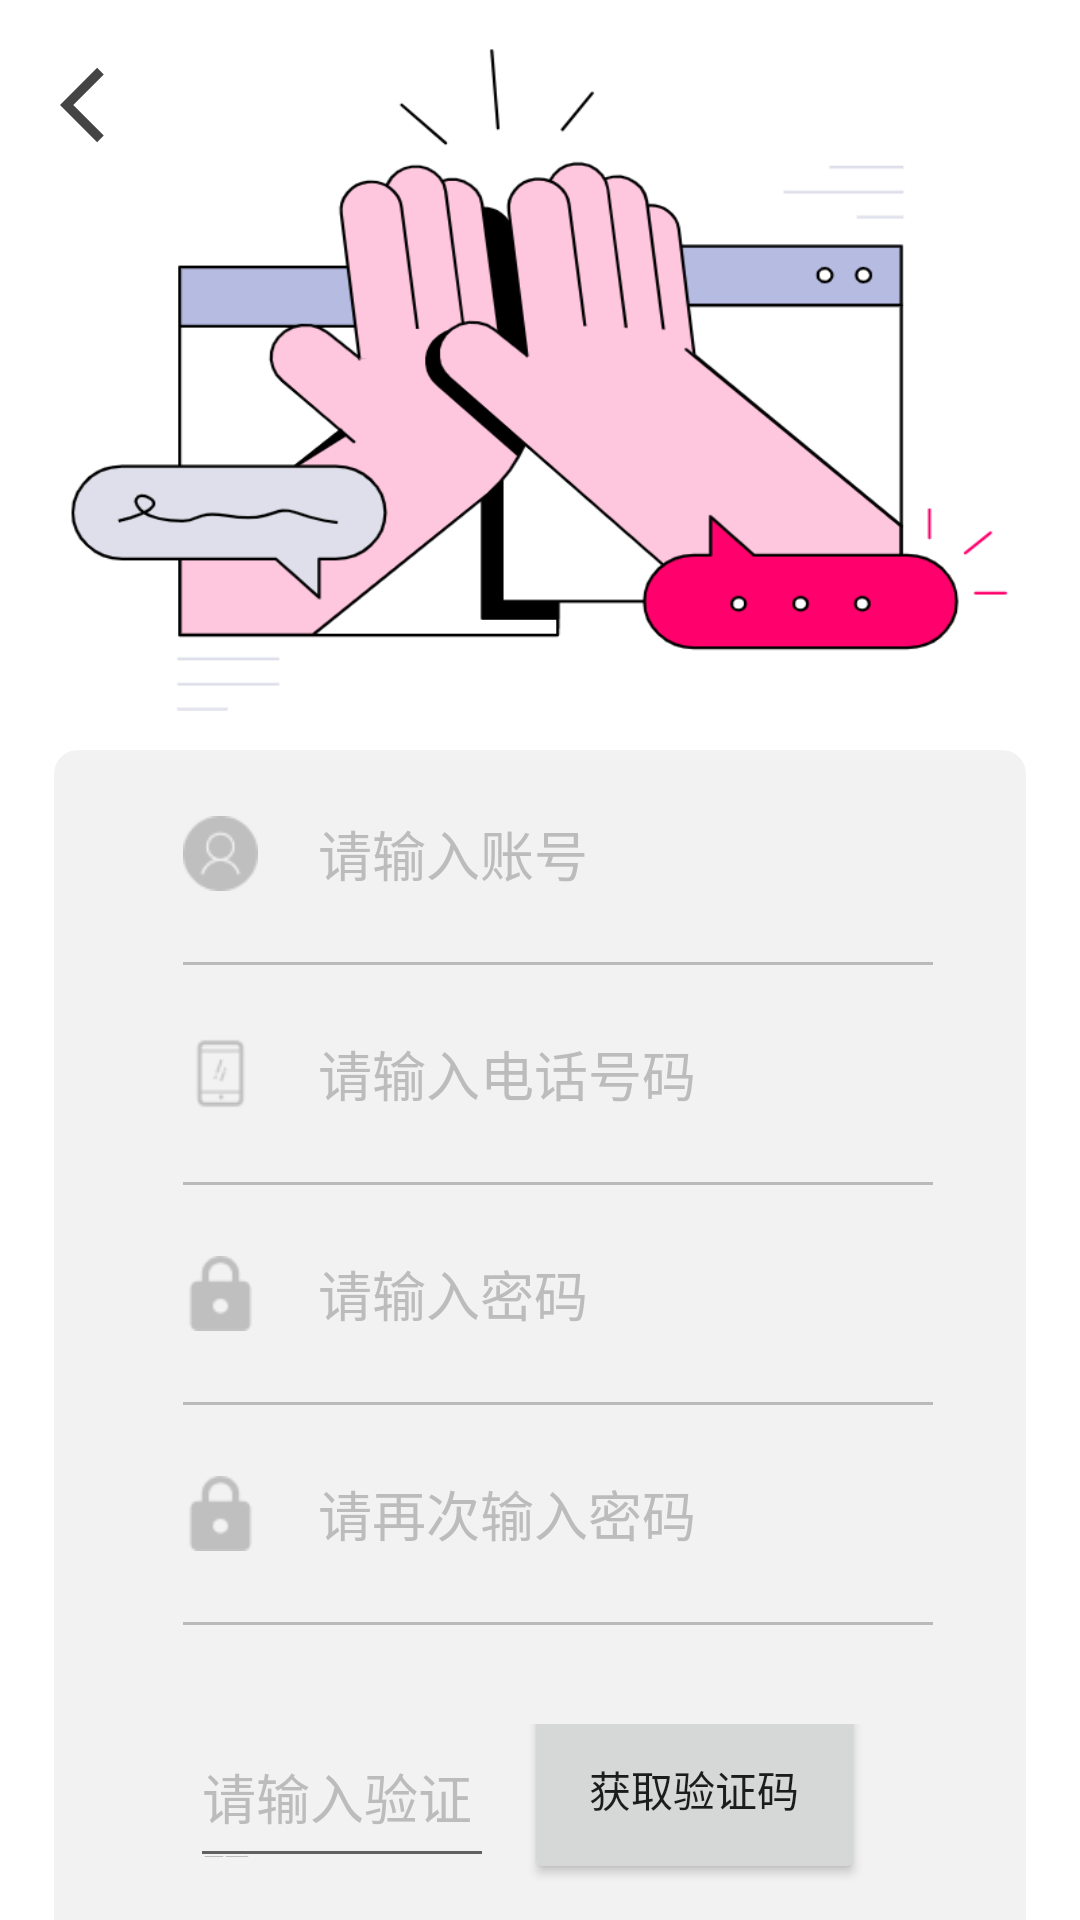

Point at icon controls on the screen. Image size 1080 × 1920, points as point (x, y).
arrow back: point (82, 105)
passwd: point (220, 1293), point (220, 1513)
person: point (220, 853)
phone: point (220, 1073)
